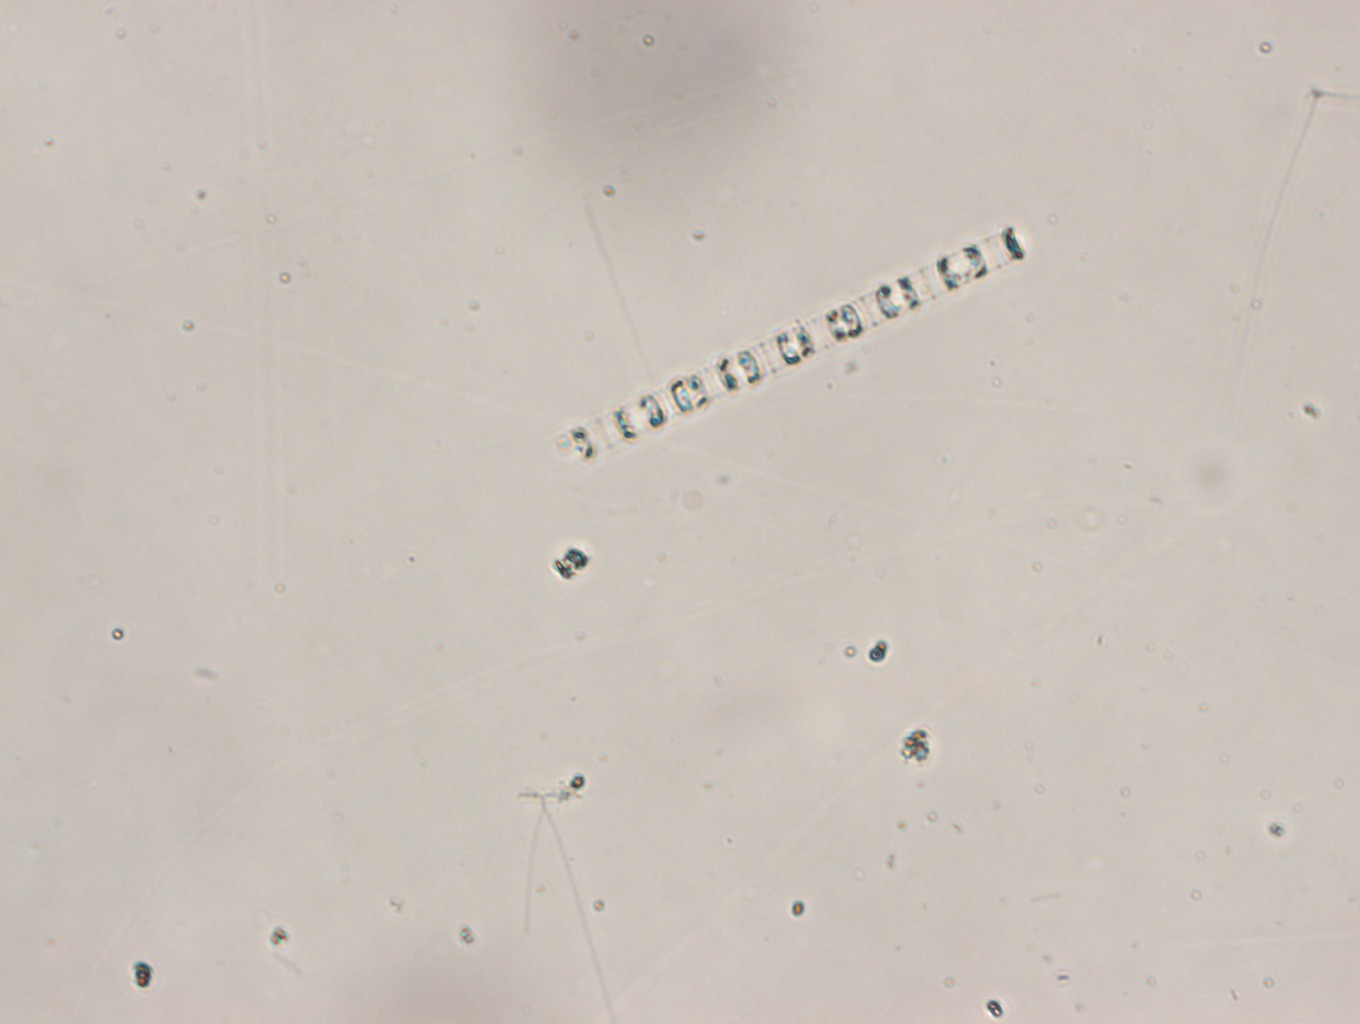skeletonema: (557, 224, 1029, 472)
